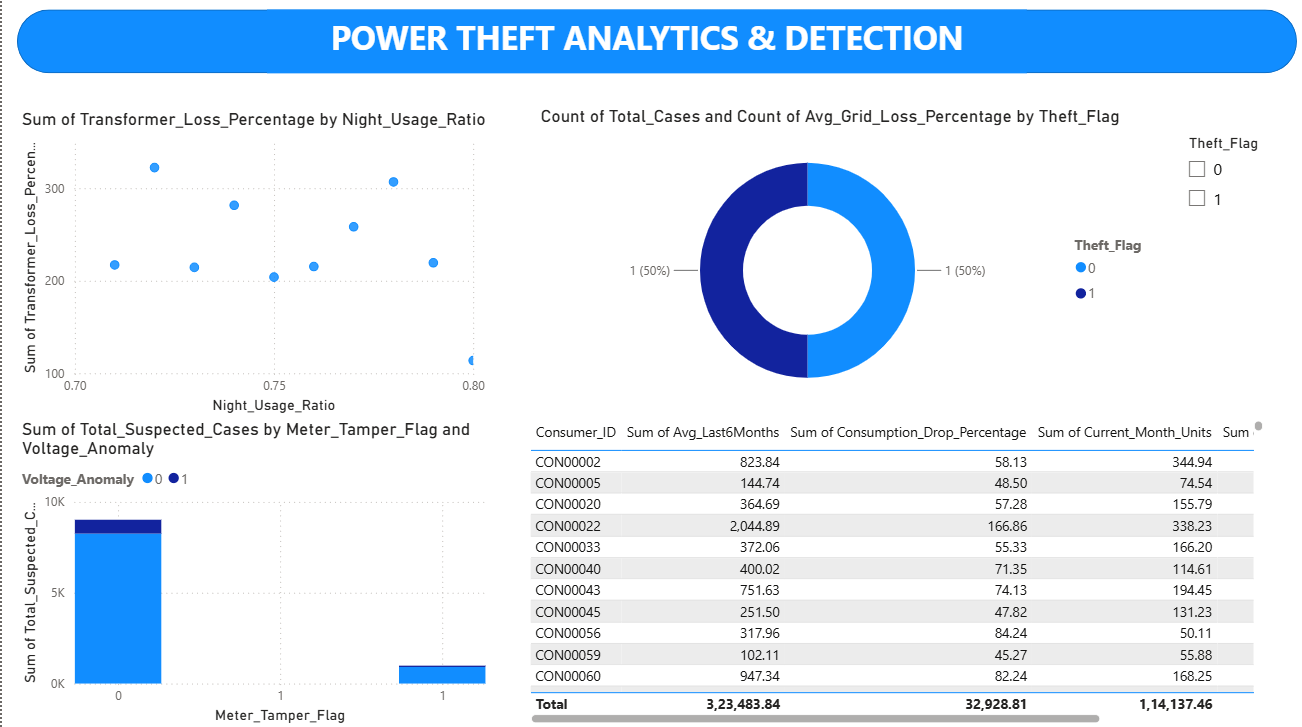

This screenshot's page, from the dashboard's own definition file:
{"tool":"powerbi","page":{"name":"Page 3","canvas":[1280,720],"ordinal":2},"visuals":[{"type":"columnChart","fields":{"Category":["Tamper_Alerts.Meter_Tamper_Flag"],"Y":["Sum(Tamper_Alerts.Total_Suspected_Cases)"],"Series":["Tamper_Alerts.Voltage_Anomaly"]},"box":[14.7,417,463.5,303.3],"z":0},{"type":"tableEx","fields":{"Values":["High_Risk_Drop.Consumer_ID","Sum(High_Risk_Drop.Avg_Last6Months)","Sum(High_Risk_Drop.Consumption_Drop_Percentage)","Sum(High_Risk_Drop.Current_Month_Units)","Sum(High_Risk_Drop.Transformer_Loss_Percentage)"]},"box":[511.1,414.5,727.6,305.7],"z":1000},{"type":"scatterChart","fields":{"Y":["Sum(Abnormal_Night_Usage.Transformer_Loss_Percentage)"],"X":["Abnormal_Night_Usage.Night_Usage_Ratio"]},"box":[14.7,113.7,463.5,303.3],"z":2000},{"type":"donutChart","fields":{"Y":["CountNonNull(ML_Theft_Overwiew.Total_Cases)"],"Category":["ML_Theft_Overwiew.Theft_Flag"]},"box":[522.1,111.3,615.1,303.3],"z":3000},{"type":"slicer","fields":{"Values":["ML_Theft_Overwiew.Theft_Flag"]},"box":[1148.2,134.5,132.1,152.9],"z":4000},{"type":"shape","box":[14.7,17.1,1252.2,62.4],"z":5000},{"type":"textbox","box":[259.2,17.1,743.5,62.4],"z":6000}]}

Visuals, with their boxes in screenshot pixels (x1, y1, x2, y2), scaled from the page's 1280x720 canvas onto the 1302x727 screenshot:
columnChart - Tamper_Alerts.Meter_Tamper_Flag x Sum(Tamper_Alerts.Total_Suspected_Cases): pyautogui.locateOnScreen(15, 421, 486, 726)
tableEx - High_Risk_Drop.Consumer_ID x Sum(High_Risk_Drop.Avg_Last6Months): pyautogui.locateOnScreen(520, 419, 1260, 726)
scatterChart - Sum(Abnormal_Night_Usage.Transformer_Loss_Percentage) x Abnormal_Night_Usage.Night_Usage_Ratio: pyautogui.locateOnScreen(15, 115, 486, 421)
donutChart - CountNonNull(ML_Theft_Overwiew.Total_Cases) x ML_Theft_Overwiew.Theft_Flag: pyautogui.locateOnScreen(531, 112, 1157, 419)
slicer - ML_Theft_Overwiew.Theft_Flag: pyautogui.locateOnScreen(1168, 136, 1301, 290)
shape: pyautogui.locateOnScreen(15, 17, 1289, 80)
textbox: pyautogui.locateOnScreen(264, 17, 1020, 80)
